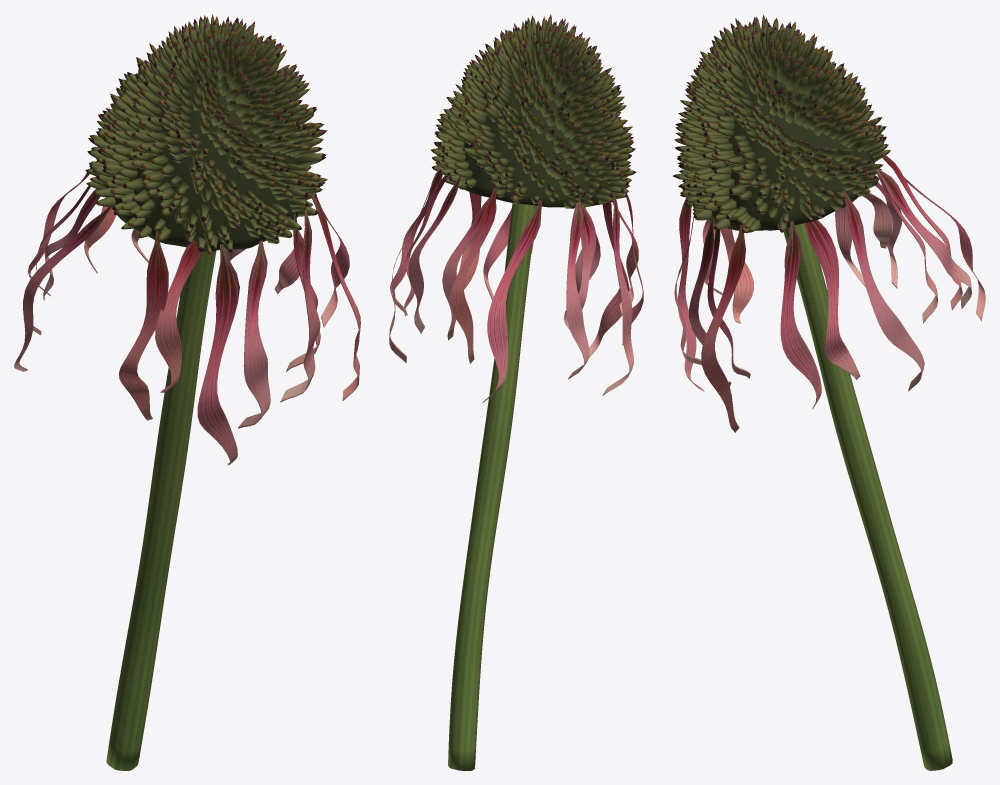
File: echinacea-web.glb
The picture shows the model from 3 angles, left to right: view 1: azimuth 30°, elevation 25°; view 2: azimuth 150°, elevation 25°; view 3: azimuth 270°, elevation 25°; orthographic projection. The views are drawn at different scales.
Parts seen in each view (by area): view 1: ECH_Core_Spikes, Echinacea purpurea.001, Echinacea purpurea.003, ECH_Petal_09, ECH_Petal_08, ECH_Petal_10, ECH_Petal_16, ECH_Petal_07, ECH_Petal_11, ECH_Petal_12, ECH_Petal_15, ECH_Petal_01 (+3 smaller); view 2: ECH_Core_Spikes, Echinacea purpurea.001, Echinacea purpurea.003, ECH_Petal_05, ECH_Petal_04, ECH_Petal_06, ECH_Petal_07, ECH_Petal_03, ECH_Petal_14, ECH_Petal_09, ECH_Petal_15, ECH_Petal_01 (+6 smaller); view 3: ECH_Core_Spikes, Echinacea purpurea.001, Echinacea purpurea.003, ECH_Petal_01, ECH_Petal_02, ECH_Petal_13, ECH_Petal_12, ECH_Petal_03, ECH_Petal_09, ECH_Petal_11, ECH_Petal_08, ECH_Petal_17 (+6 smaller).
Part boxes in pixels (x1,y1,x2,y2): ECH_Core_Spikes: (85, 14, 327, 254); Echinacea purpurea.001: (106, 251, 216, 770); Echinacea purpurea.003: (106, 65, 304, 251); ECH_Petal_09: (197, 244, 239, 465); ECH_Petal_08: (119, 230, 168, 420); ECH_Petal_10: (238, 240, 270, 428); ECH_Petal_16: (155, 240, 201, 392); ECH_Petal_07: (14, 204, 112, 371); ECH_Petal_11: (280, 210, 320, 402); ECH_Petal_12: (310, 194, 360, 400); ECH_Petal_15: (43, 188, 100, 300); ECH_Petal_01: (315, 195, 349, 327); ECH_Core_Spikes: (431, 14, 636, 208); Echinacea purpurea.001: (448, 203, 537, 770); Echinacea purpurea.003: (447, 61, 611, 207); ECH_Petal_05: (482, 200, 541, 402); ECH_Petal_04: (450, 188, 496, 363); ECH_Petal_06: (566, 197, 589, 379); ECH_Petal_07: (602, 192, 633, 395); ECH_Petal_03: (408, 175, 461, 333); ECH_Petal_14: (442, 190, 496, 340); ECH_Petal_09: (588, 202, 629, 358); ECH_Petal_15: (563, 206, 596, 329); ECH_Petal_01: (390, 172, 442, 315); ECH_Core_Spikes: (672, 14, 890, 233); Echinacea purpurea.001: (783, 223, 952, 770); Echinacea purpurea.003: (709, 67, 874, 230); ECH_Petal_01: (780, 220, 821, 409); ECH_Petal_02: (842, 190, 924, 391); ECH_Petal_13: (804, 220, 860, 379); ECH_Petal_12: (701, 225, 745, 432); ECH_Petal_03: (875, 168, 971, 308); ECH_Petal_09: (678, 197, 704, 391); ECH_Petal_11: (689, 217, 731, 386); ECH_Petal_08: (720, 228, 753, 323); ECH_Petal_17: (707, 219, 750, 378).
Bounding box in the file's own units: 1.56 × 4.02 × 1.54.
10 materials, 5 textured.
